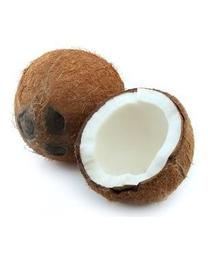coconut: (74, 87, 196, 208), (13, 44, 127, 165)
